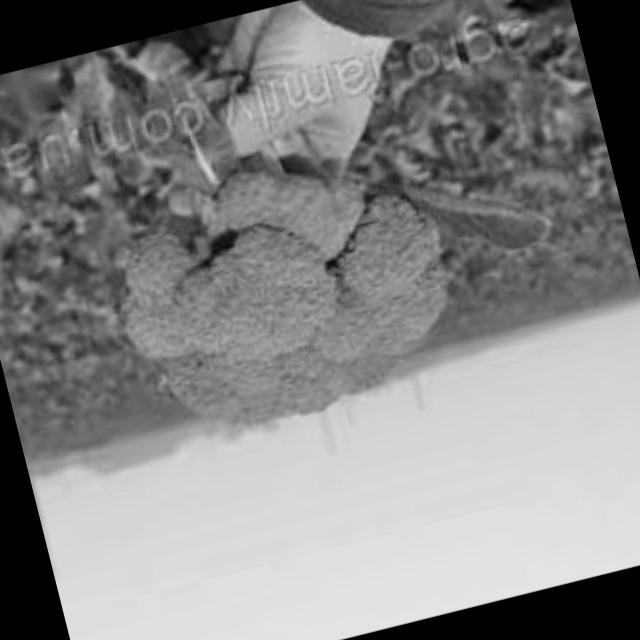broccoli: (69, 115, 487, 464)
